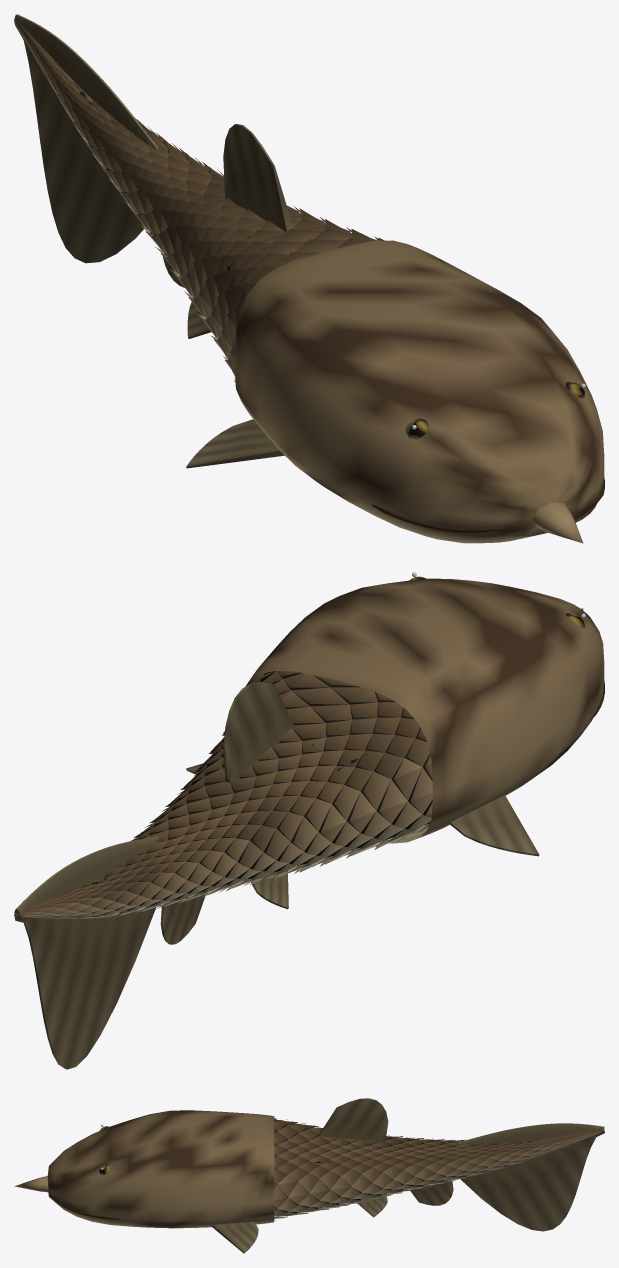
Rendered from QilinyuRostrata.fbx.
The picture shows the model from 3 angles, top to bottom: view 1: azimuth 30°, elevation 25°; view 2: azimuth 150°, elevation 25°; view 3: azimuth 270°, elevation 25°; orthographic projection. The views are drawn at different scales.
Parts seen in each view (by area): view 1: QilinyuRostrata; view 2: QilinyuRostrata; view 3: QilinyuRostrata.
Boxes of the visible parts, x1,y1,x2,y2 form: QilinyuRostrata: [14, 14, 604, 543]; QilinyuRostrata: [14, 572, 604, 1069]; QilinyuRostrata: [14, 1098, 604, 1253].
Size of the model in its own units: 0.5797 by 0.3998 by 1.61.
